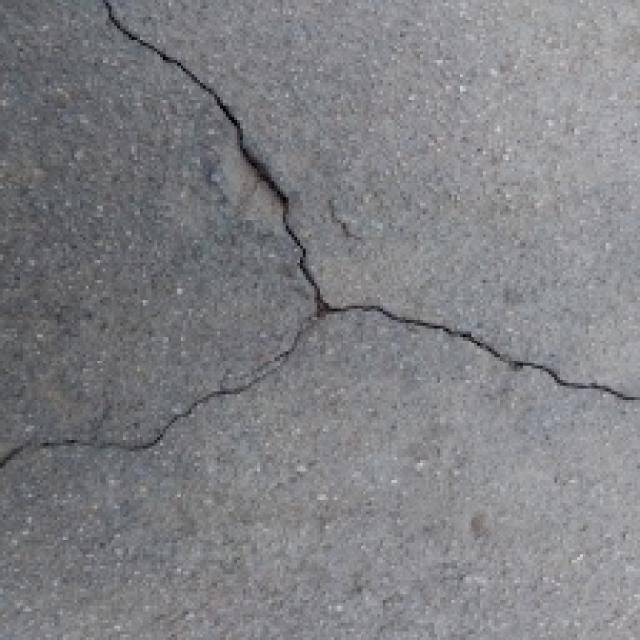crack: (0, 6, 640, 516)
